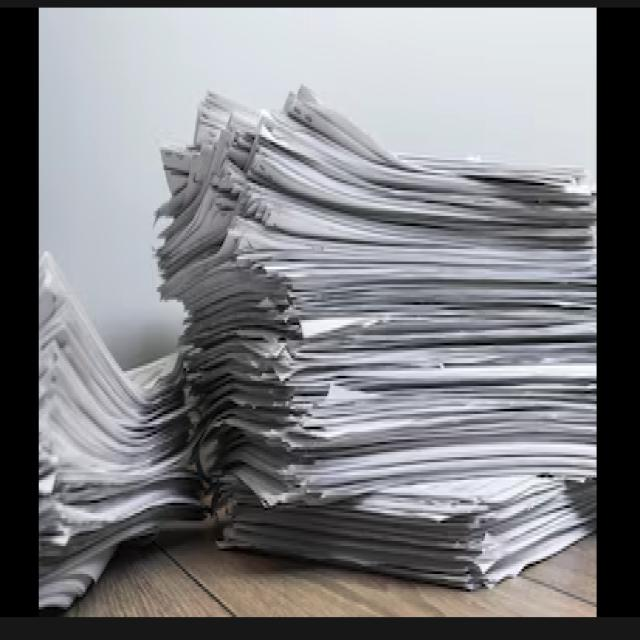KertasBekas: (39, 81, 596, 607)
